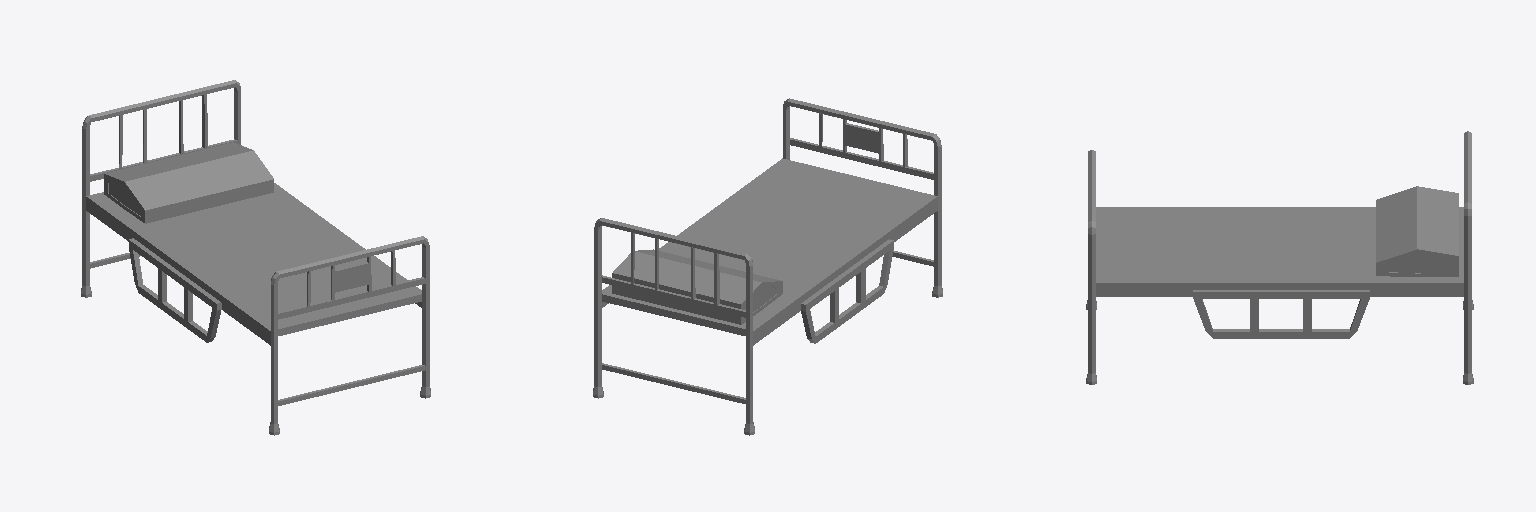
The model's file is BedHigh.obj.
3 views of the same model, side by side, from view 1: azimuth 30°, elevation 25°; view 2: azimuth 150°, elevation 25°; view 3: azimuth 270°, elevation 25° (orthographic).
Parts seen in each view (by area): view 1: Bed; view 2: Bed; view 3: Bed.
Boxes of the visible parts, x1=… form: Bed: x1=81, y1=80, x2=430, y2=435; Bed: x1=593, y1=98, x2=942, y2=435; Bed: x1=1086, y1=131, x2=1473, y2=384.
Bounding box in the file's own units: 66.32 × 68.69 × 135.